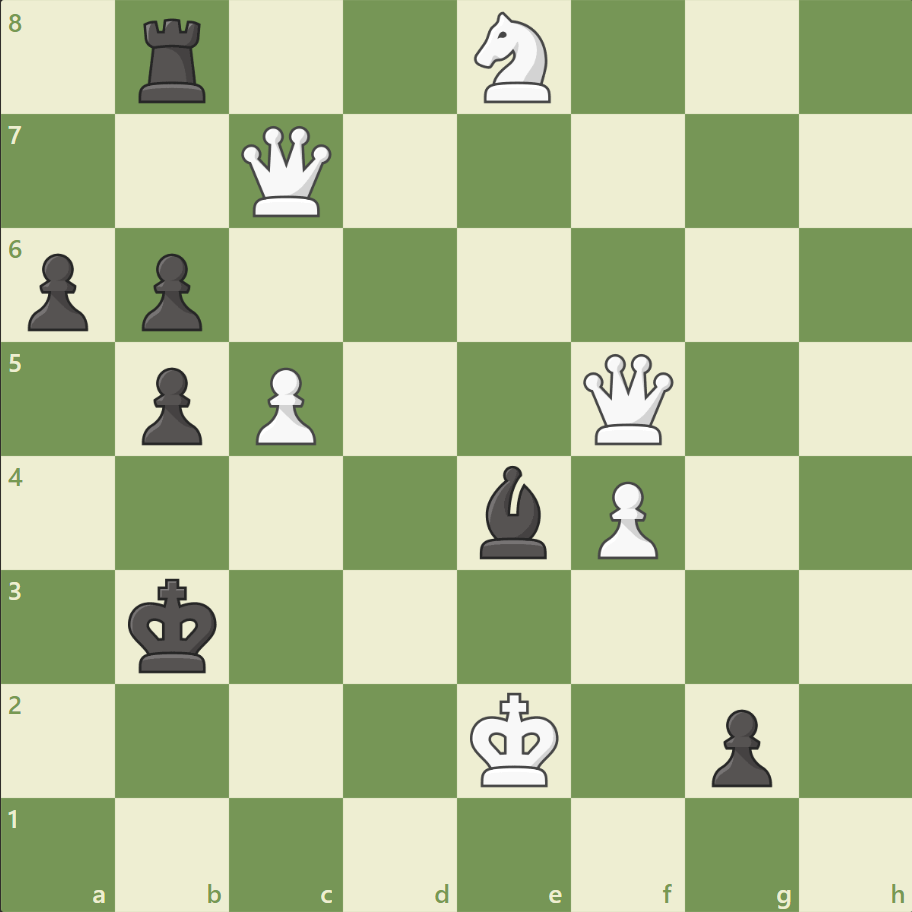K: (465, 685, 565, 793)
N: (465, 7, 562, 110)
P: (247, 359, 322, 450), (588, 473, 662, 564)
Q: (237, 122, 336, 222), (578, 349, 677, 449)
b: (471, 460, 555, 563)
k: (124, 571, 224, 679)
p: (20, 246, 95, 337), (133, 246, 208, 337), (133, 359, 208, 450), (701, 700, 776, 791)
r: (133, 12, 215, 109)
